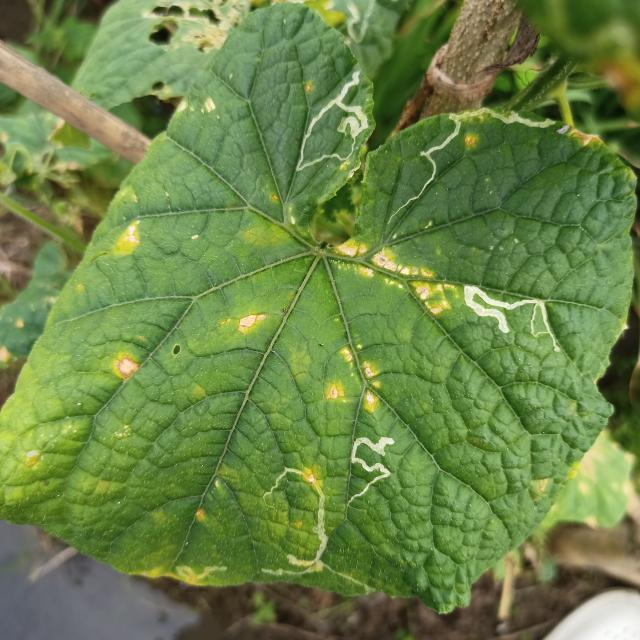disease_cucumber: (332, 232, 456, 316), (316, 342, 386, 417), (111, 220, 144, 257), (236, 310, 270, 340), (175, 94, 216, 118), (114, 356, 142, 382), (462, 134, 477, 152)
